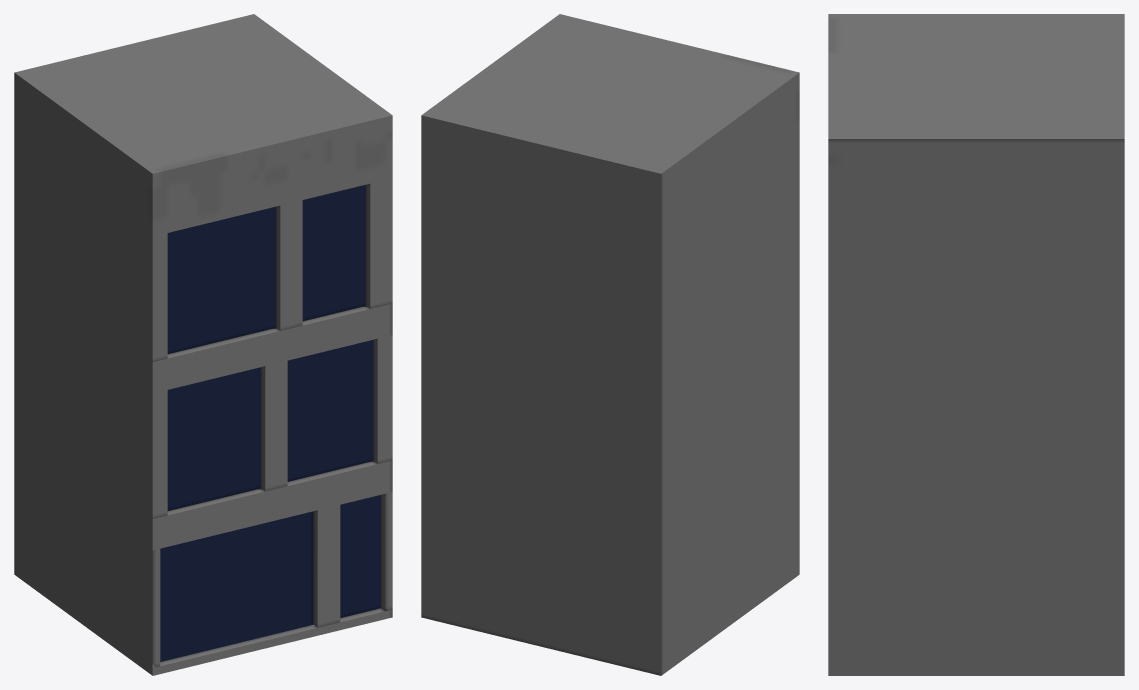
3 renders of one model, left to right at view 1: azimuth 30°, elevation 25°; view 2: azimuth 150°, elevation 25°; view 3: azimuth 270°, elevation 25°, orthographic. The views are drawn at different scales.
Parts seen in each view (by area): view 1: Content; view 2: Content; view 3: Content.
Part boxes in pixels (bbox=[...]): Content: bbox=[14, 14, 392, 675]; Content: bbox=[421, 14, 799, 675]; Content: bbox=[828, 14, 1124, 675].
Bounding box in the file's own units: 32 × 64 × 32.
1 material, 1 textured.
